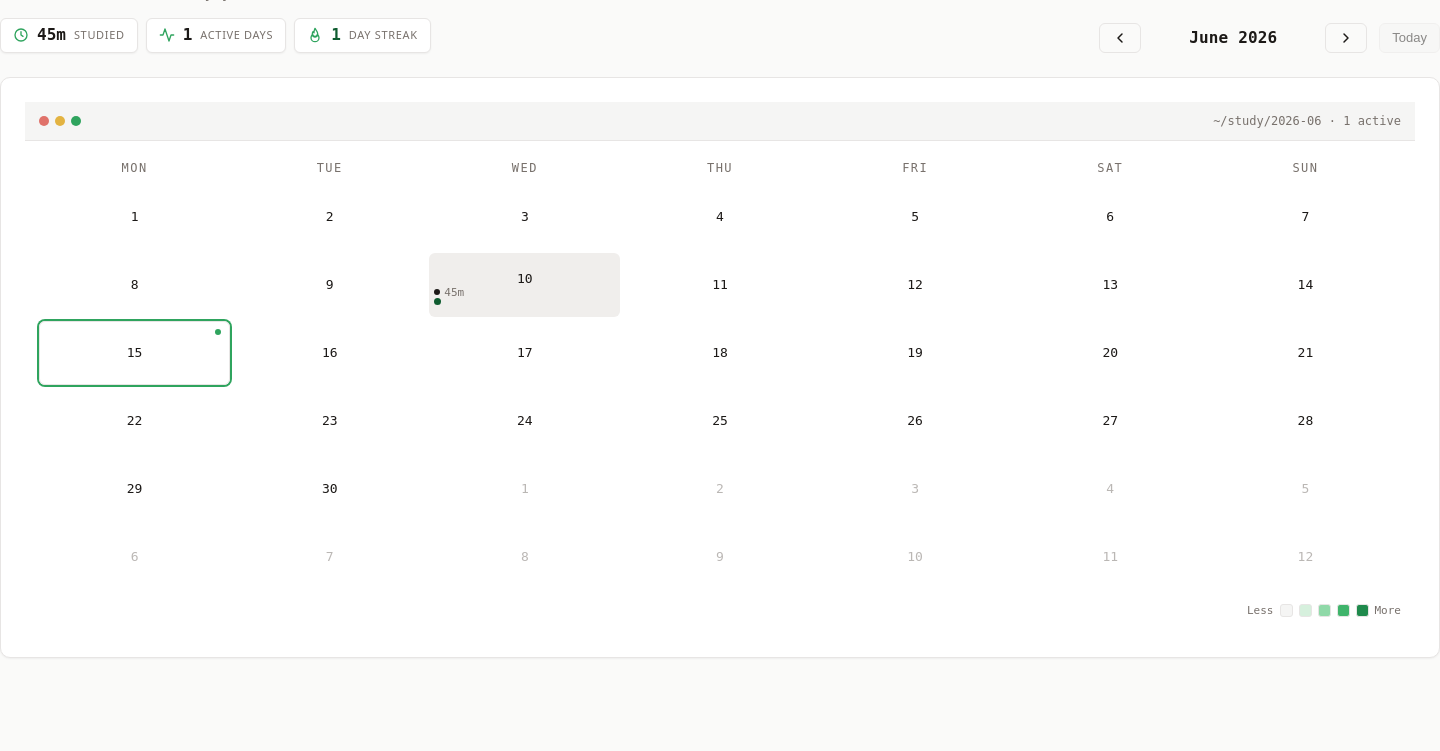
CalendarPage › shows a popover with totals when a studied day is clicked
Click the cell with test id "day-2026-06-10": (525, 284) 429,252 -> 620,316
(page scrolled)
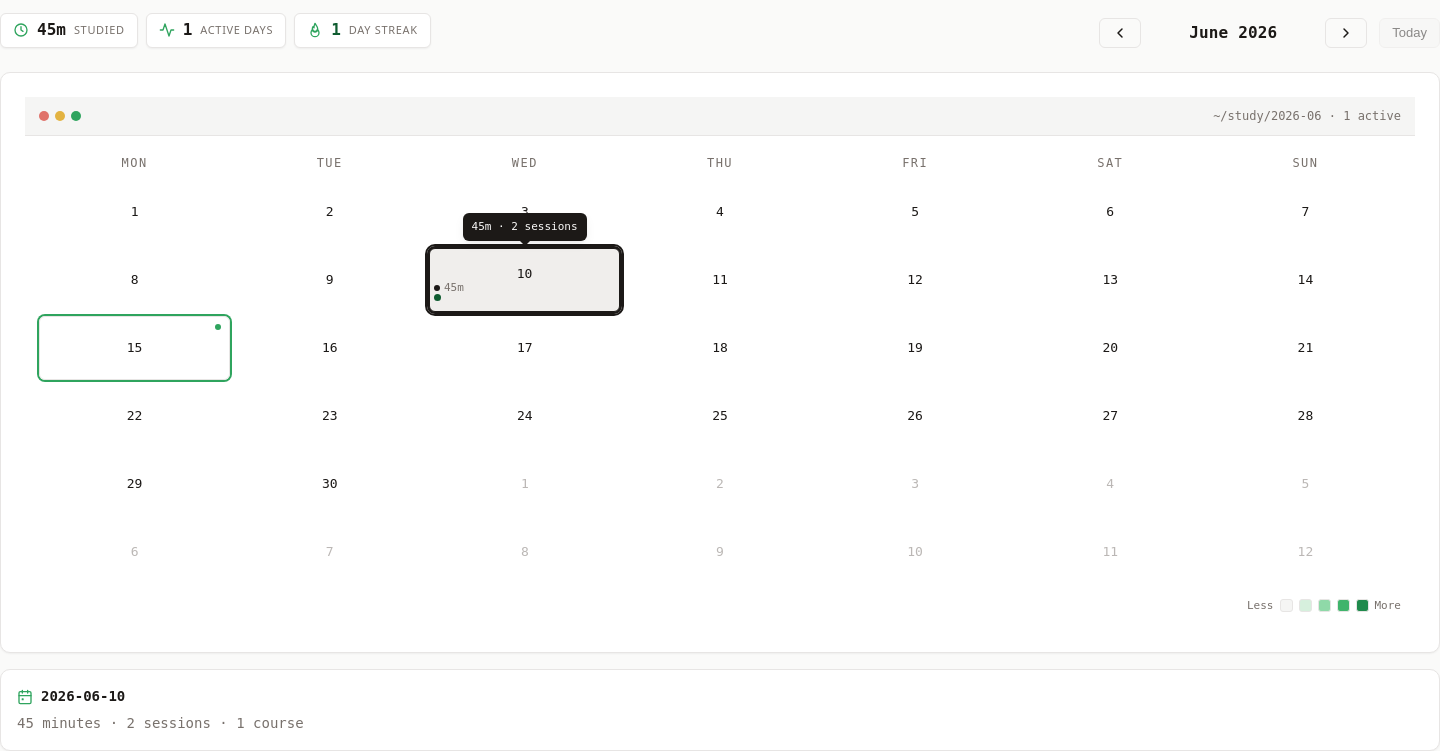
Expected: the message shows "45 minutes", 0,669 -> 1439,750
